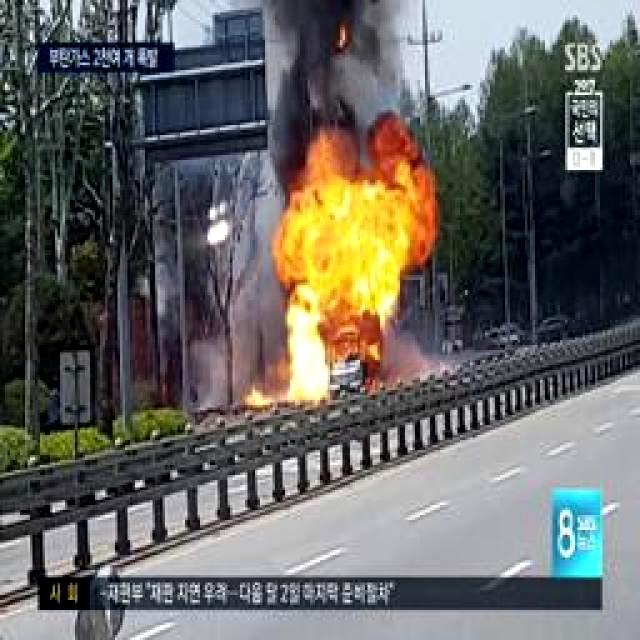fire: (272, 180, 428, 394)
